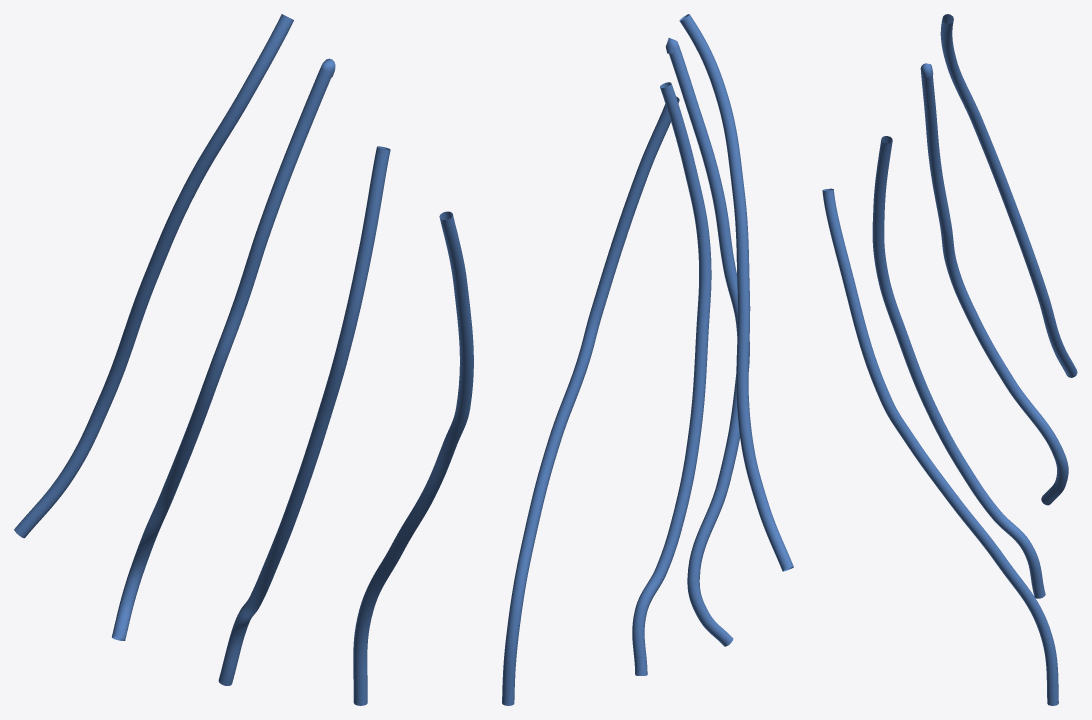
3 renders of one model, left to right at view 1: azimuth 30°, elevation 25°; view 2: azimuth 150°, elevation 25°; view 3: azimuth 270°, elevation 25°, orthographic. The views are drawn at different scales.
Visible parts, largest first — view 1: 右侧跖足底静脉; view 2: 右侧跖足底静脉; view 3: 右侧跖足底静脉.
Boxes of the visible parts, x1,y1,x2,y2 form: 右侧跖足底静脉: (14,14,473,705); 右侧跖足底静脉: (502,14,793,705); 右侧跖足底静脉: (822,14,1077,705).
Bounding box in the file's own units: 0.059 × 0.1243 × 0.0454.
